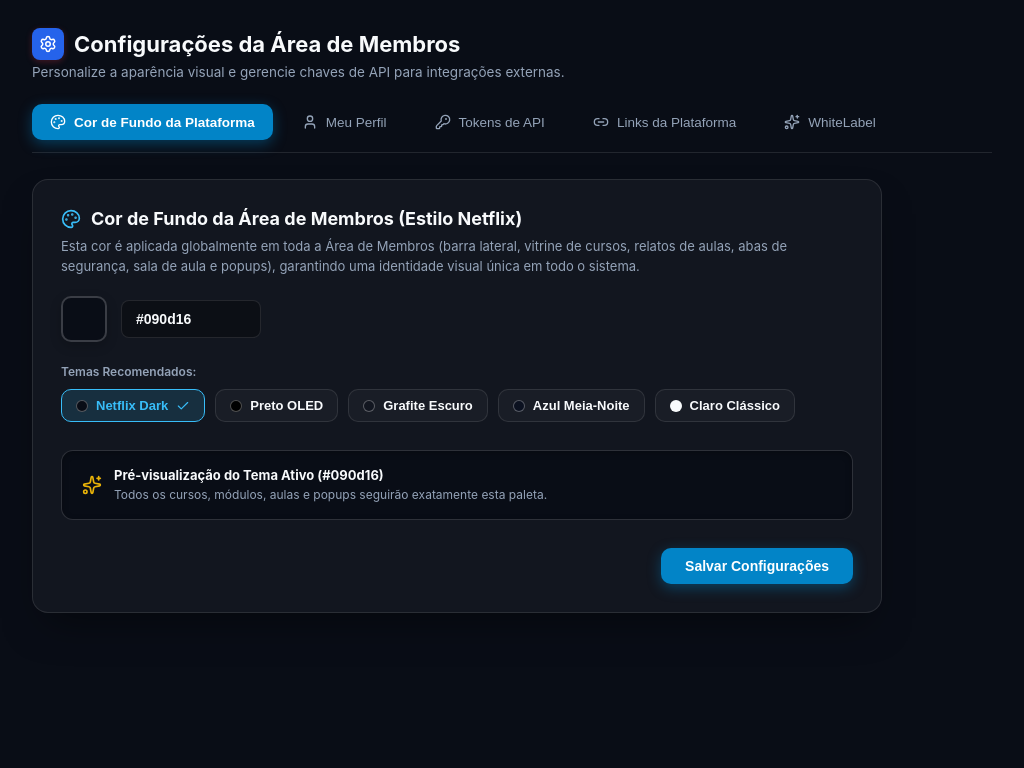
Test: PlatformSettings Component › exibe a aba Tokens de API e Links da Plataforma para administradores e permite alternar para Links
Expected: the button with test id "tab-api-tokens-btn" is shown, 416,104 -> 564,140
# Clica na aba Links da Plataforma
Click the button with test id "tab-platform-links-btn".
click(665, 122)  # box 574,104 -> 755,140
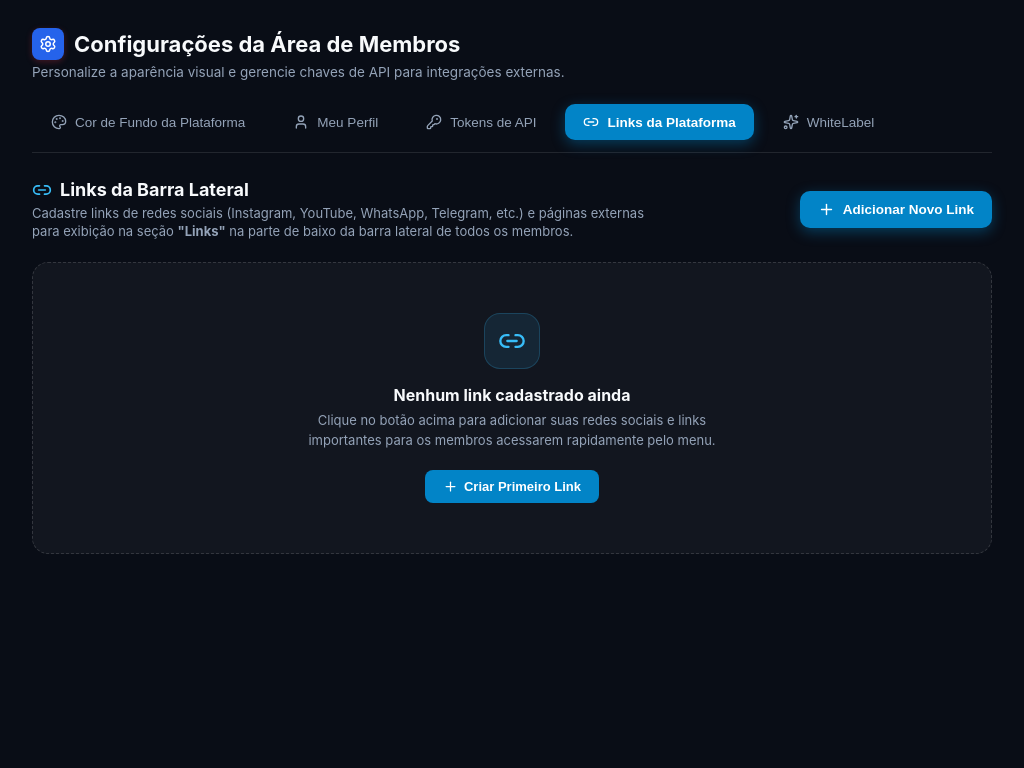
Expected: the element with test id "platform-links-tab" is shown, 32,179 -> 992,554
Expected: the heading "Links da Barra Lateral" is shown, 32,179 -> 249,200
